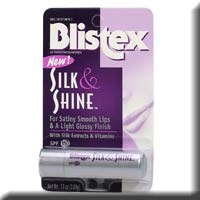grozi_62: (38, 6, 154, 192)
